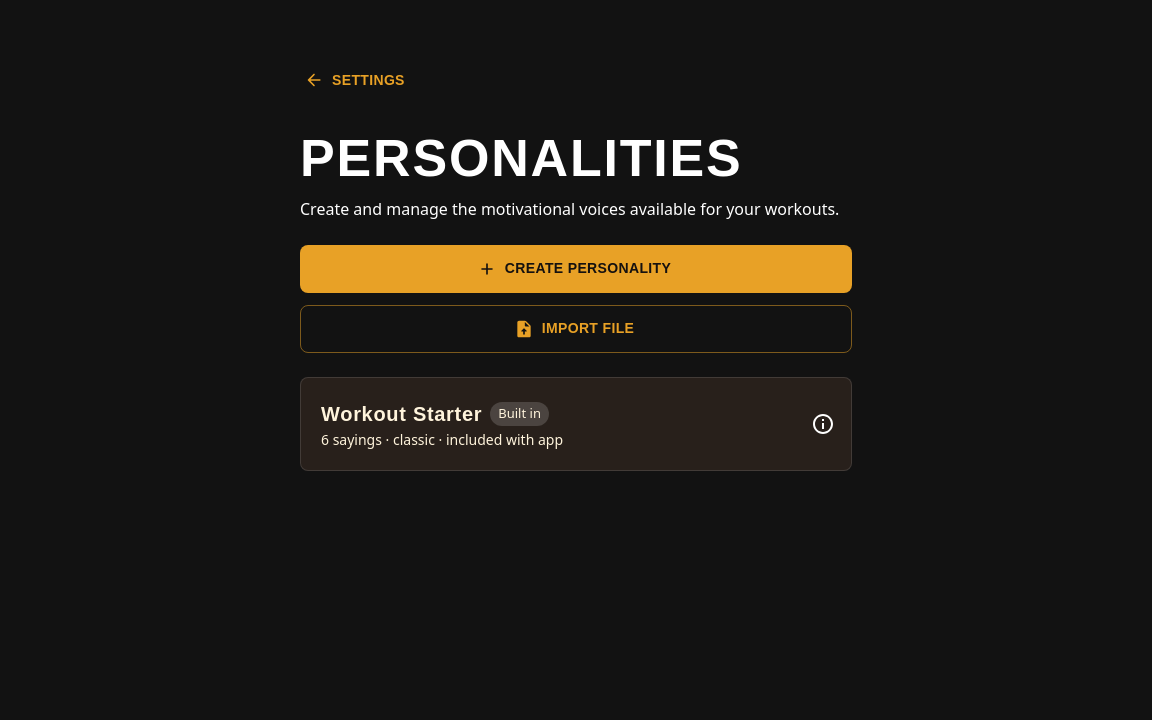
ContentPackLibrary › offers the protected built-in starter personality
The width and height of the screenshot is (1152, 720).
expect the heading "Personalities" is shown: met, box [300,129,743,187]
expect the text "Built in" is shown: met, box [498,404,541,422]
Click the button named "Inspect Workout Starter" at (823, 424), box [803,404,843,444]
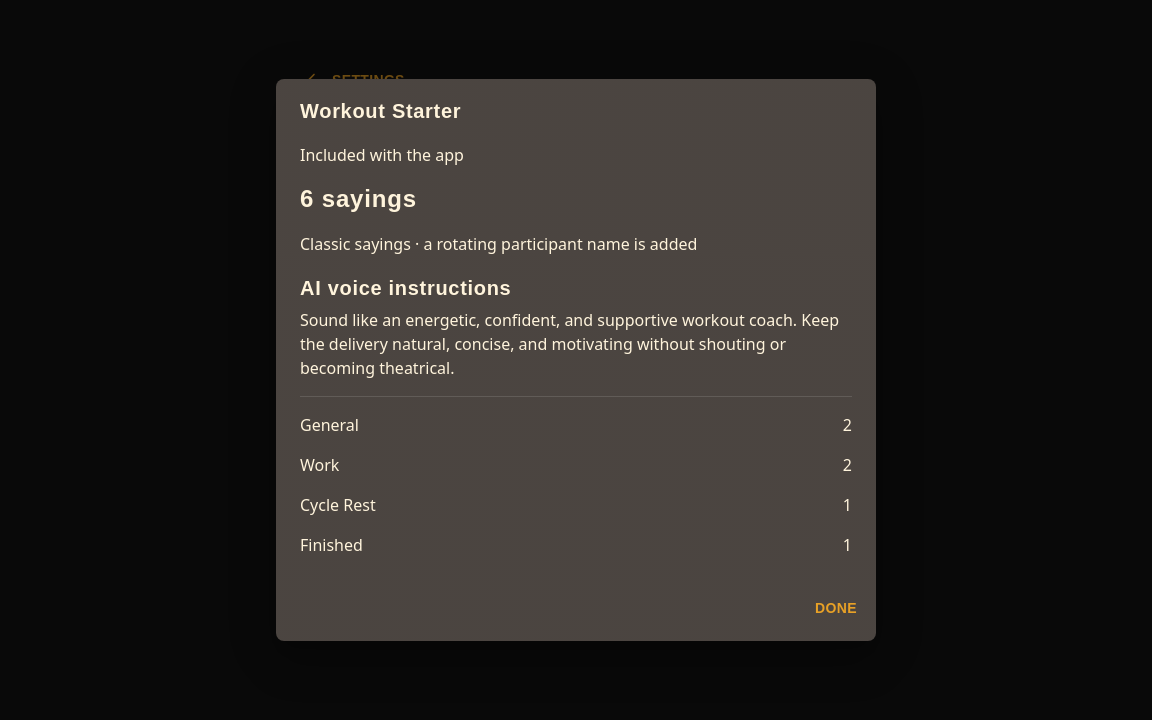
expect the text "Included with the app" is shown: met, box [300,144,464,166]
